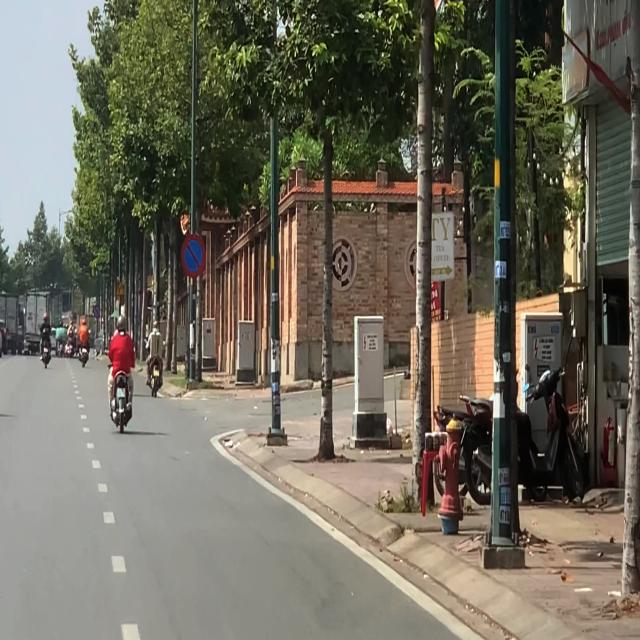Cam do: (181, 234, 206, 278)
Cam dung va do: (93, 304, 101, 318)
Nguy hiem: (115, 281, 125, 296)
